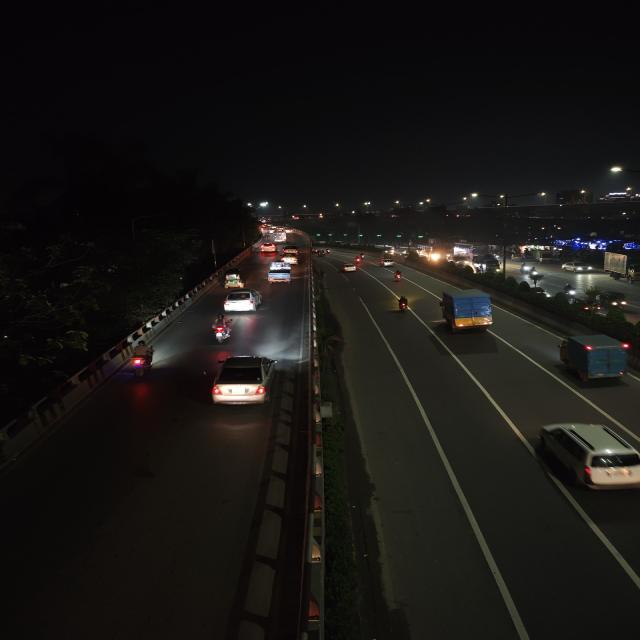bus: (449, 242, 474, 260)
car: (532, 419, 640, 499), (205, 353, 278, 411), (222, 288, 265, 314), (560, 260, 592, 274), (281, 244, 300, 257), (340, 262, 359, 274), (258, 242, 277, 253), (379, 257, 396, 268)
cng: (598, 290, 629, 310), (222, 267, 246, 289)
motorcycle: (122, 340, 160, 380), (206, 314, 235, 346), (392, 293, 414, 315), (560, 282, 580, 298), (389, 269, 406, 284), (527, 266, 542, 280), (353, 256, 362, 262)
pickup_van: (266, 263, 294, 285)
truck: (554, 333, 633, 387), (436, 288, 498, 336), (604, 249, 640, 285), (470, 254, 503, 274), (272, 232, 287, 242)
